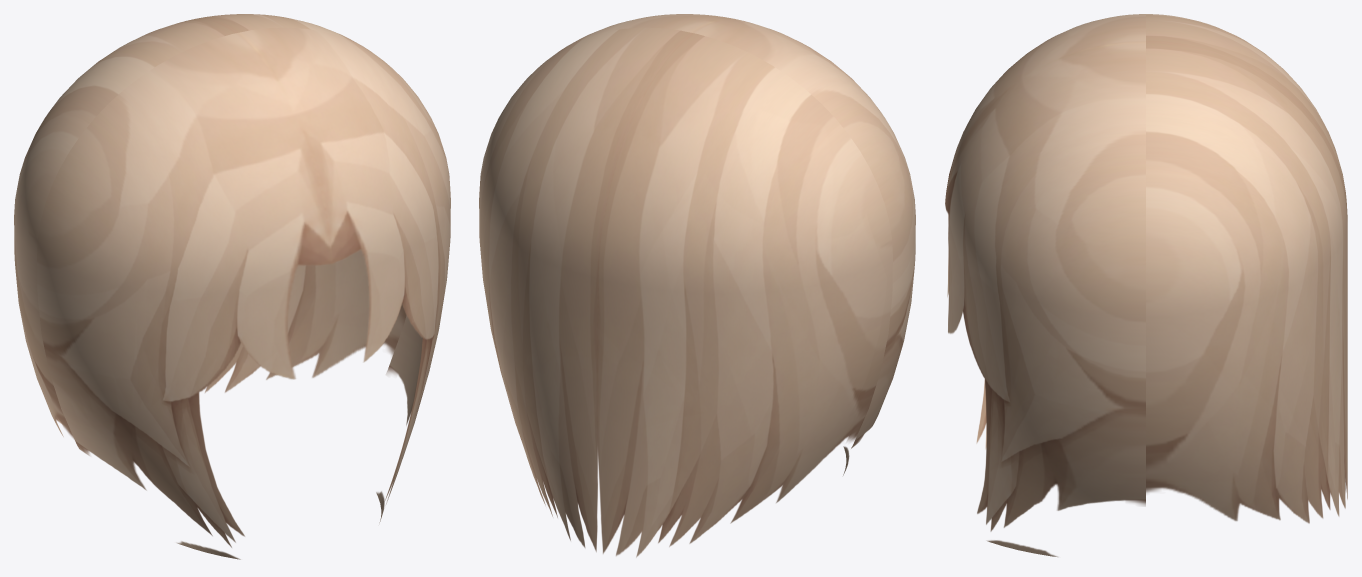
Rendered from female-hair-bob-stretched-20260917.glb.
3 views of the same model, side by side, from view 1: azimuth 30°, elevation 25°; view 2: azimuth 150°, elevation 25°; view 3: azimuth 270°, elevation 25° (orthographic). The views are drawn at different scales.
Parts seen in each view (by area): view 1: Female_Hair_Bob_Stretched; view 2: Female_Hair_Bob_Stretched; view 3: Female_Hair_Bob_Stretched.
Part boxes in pixels (left/top/right/bottom): Female_Hair_Bob_Stretched: left=14, top=14, right=450, bottom=559; Female_Hair_Bob_Stretched: left=479, top=14, right=915, bottom=557; Female_Hair_Bob_Stretched: left=945, top=14, right=1347, bottom=556.
Bounding box in the file's own units: 0.6098 × 0.6744 × 0.5279.
Materials: 1 (1 with a texture image).
